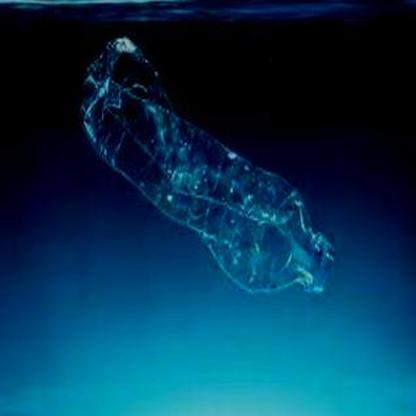plastic bottle: (79, 38, 335, 293)
